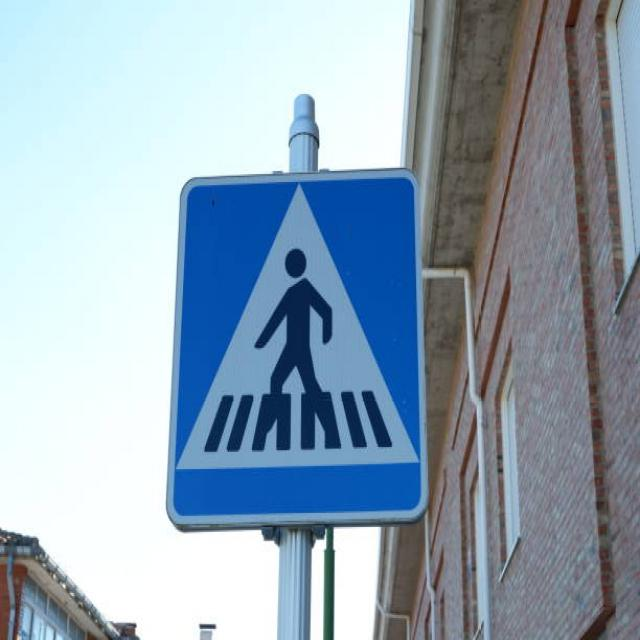crosswalk: (160, 155, 433, 540)
